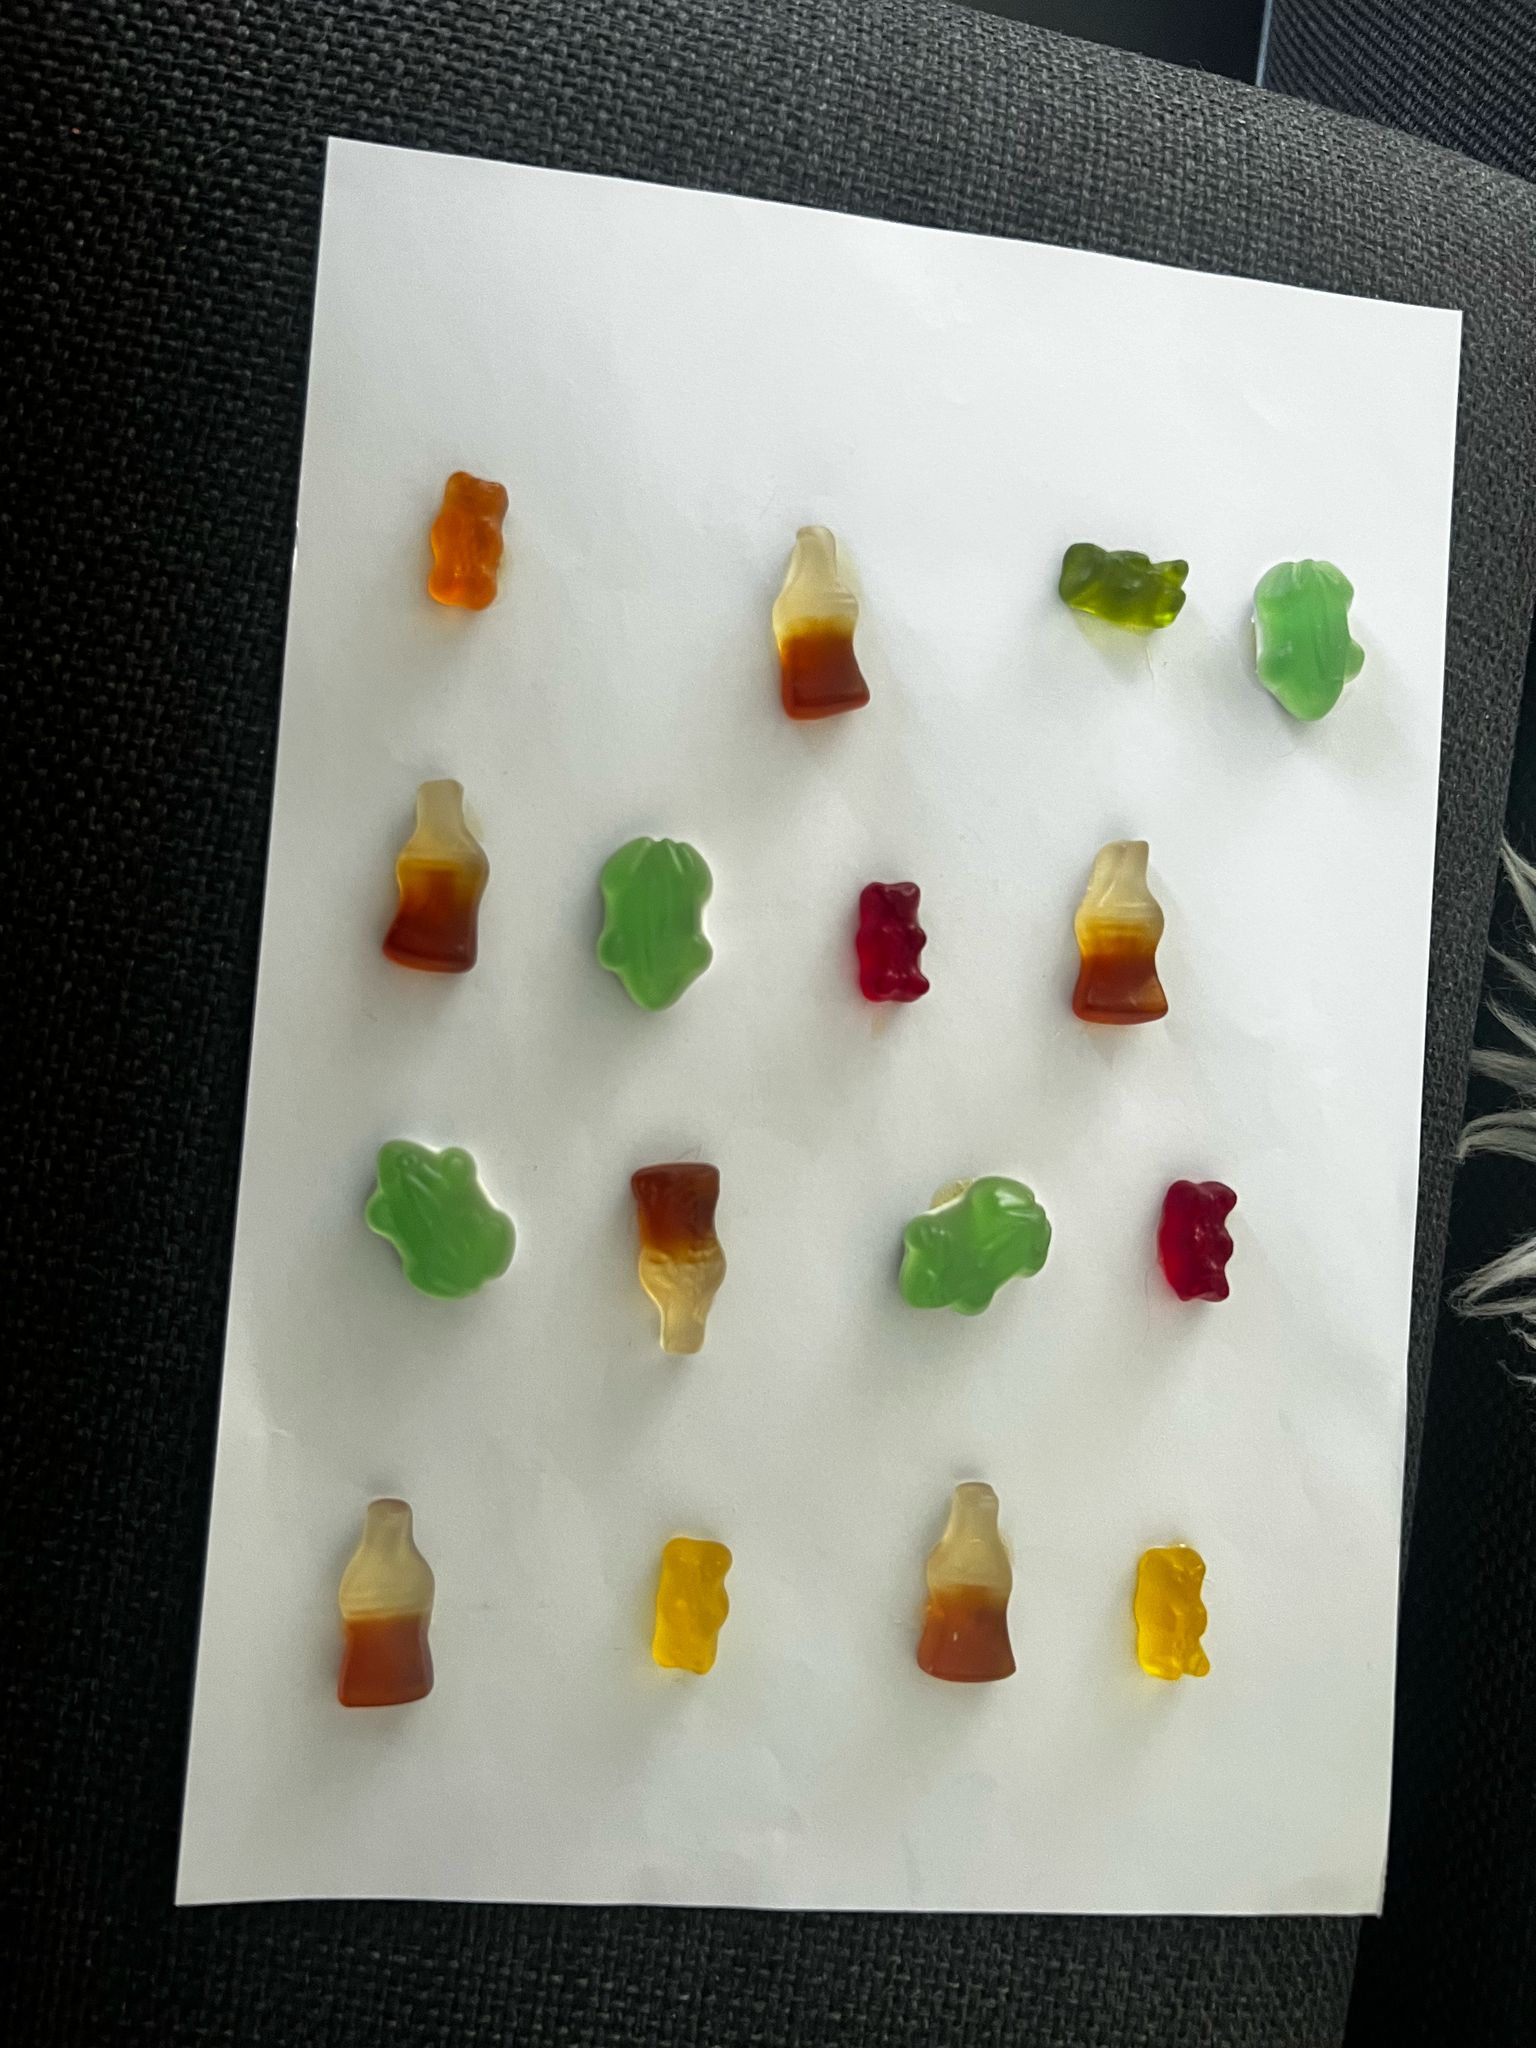cola: (323, 1484, 447, 1716), (765, 506, 879, 731), (620, 1145, 736, 1363), (378, 772, 499, 980), (1066, 827, 1179, 1035), (912, 1476, 1020, 1688)
frog: (353, 1137, 532, 1305), (586, 819, 736, 1014), (889, 1164, 1066, 1324), (1239, 543, 1375, 734)
gummybear: (1054, 522, 1197, 640), (845, 864, 949, 1009), (426, 456, 521, 610), (1150, 1156, 1246, 1309), (644, 1530, 741, 1677), (1128, 1534, 1215, 1680)
